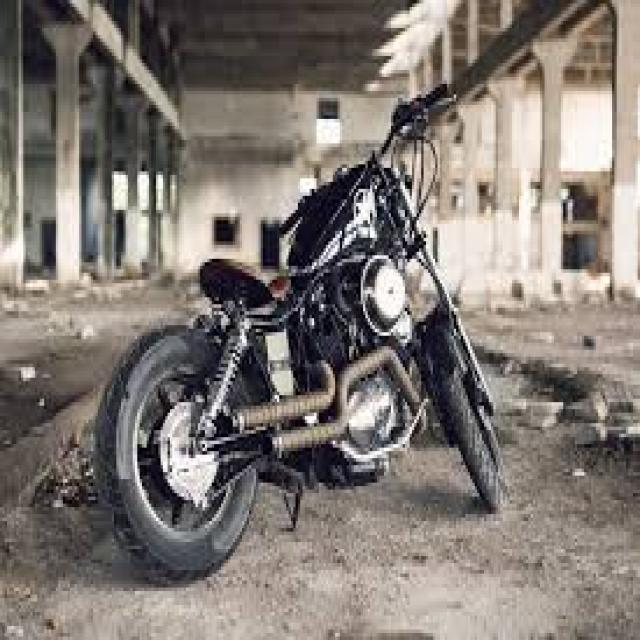Bike: (90, 82, 508, 590)
